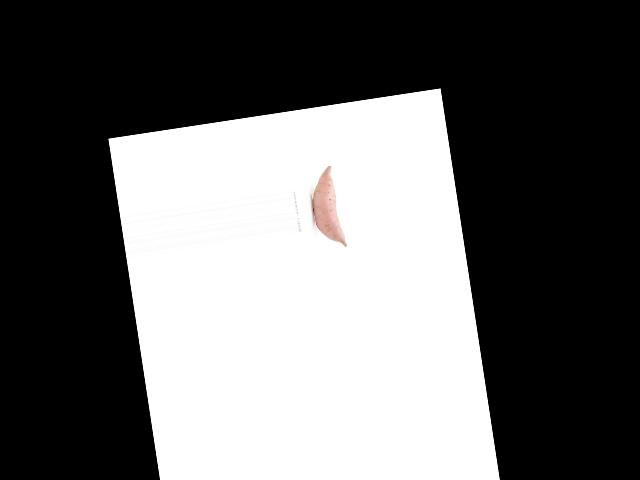sweet_potato: (306, 163, 351, 251)
